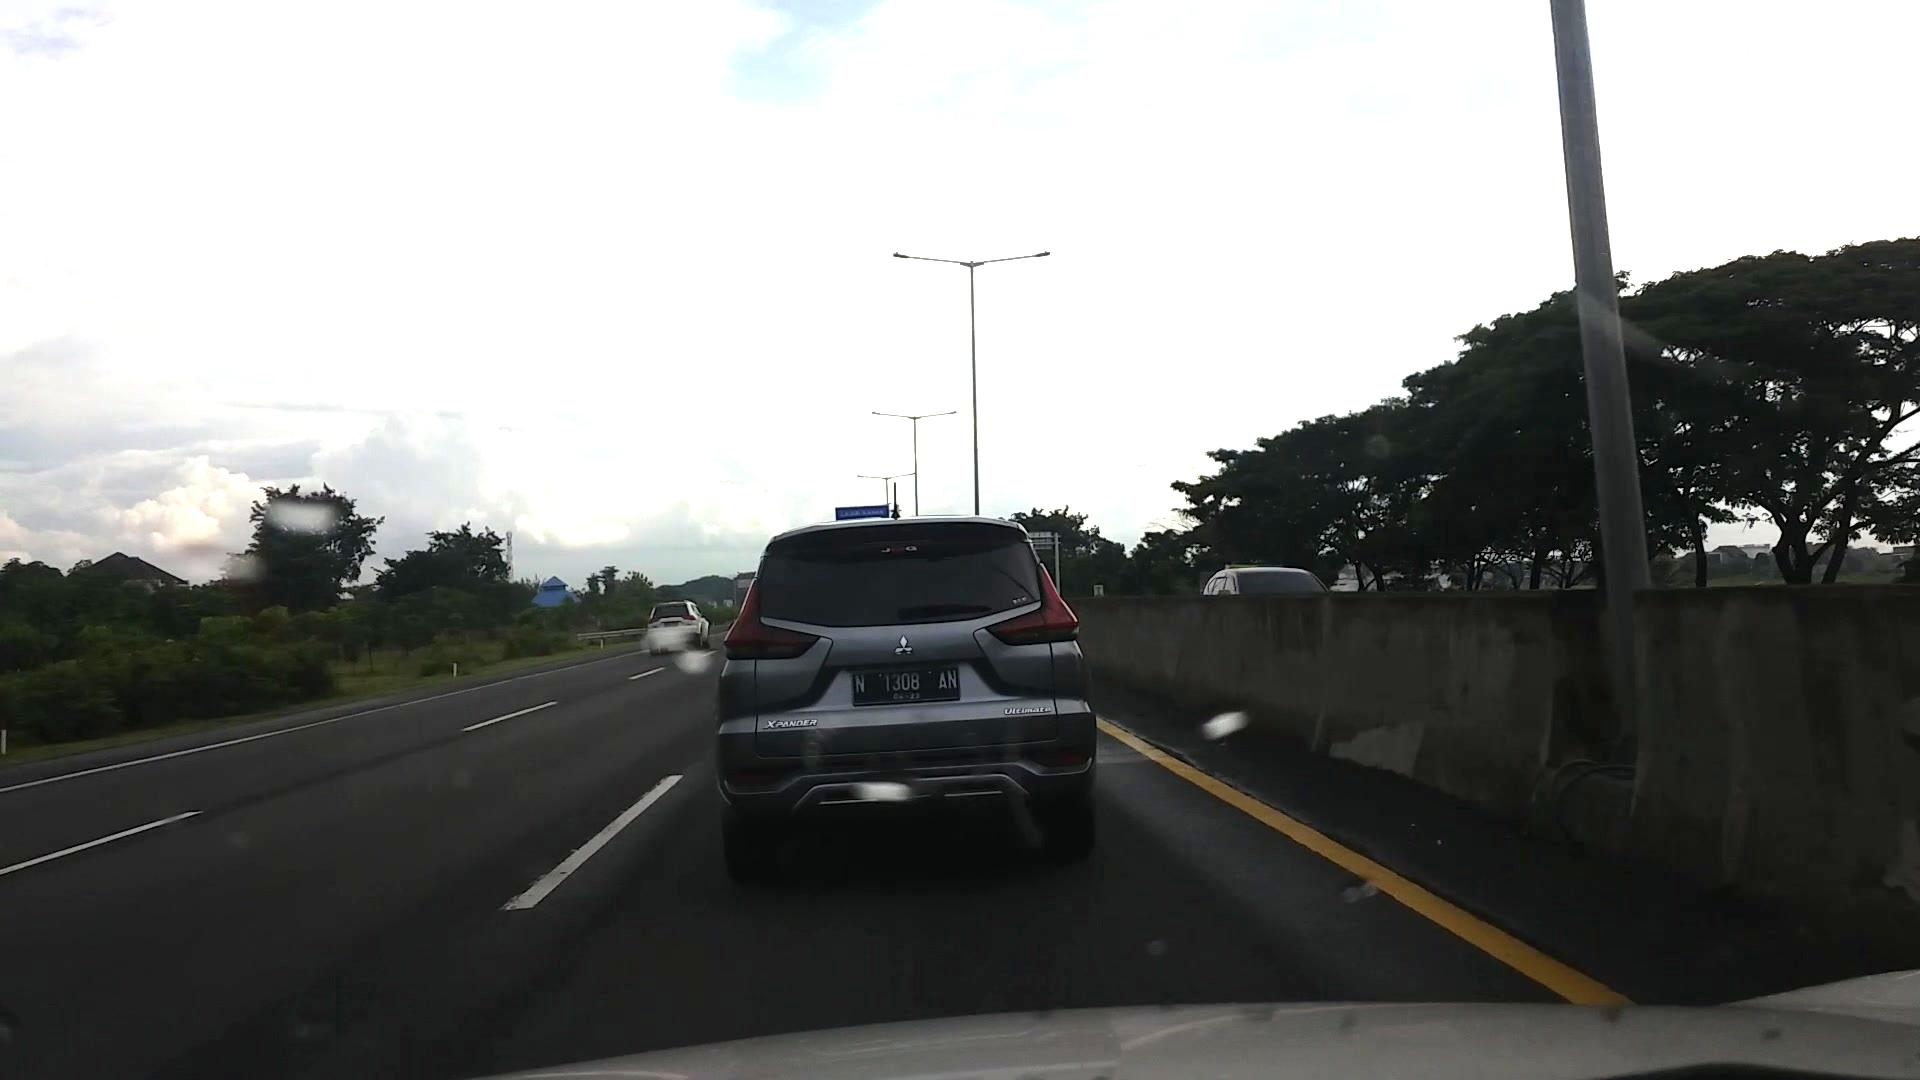plate_positive: (852, 666, 959, 704)
